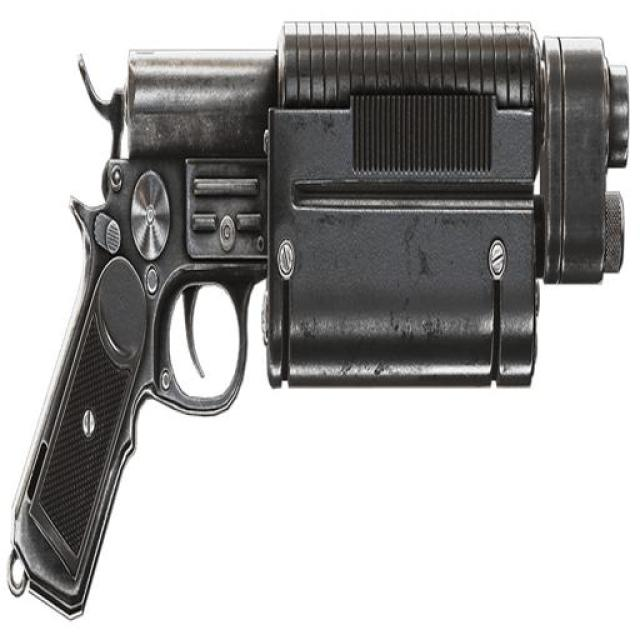pistol: (26, 7, 627, 601)
